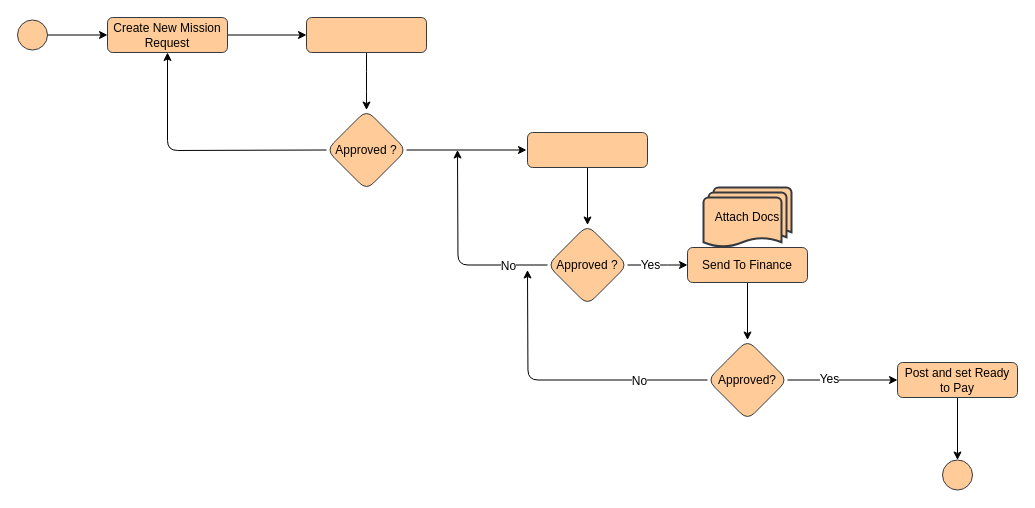
Image size: 1035x508. Some labels were removed from this diagram. The centre of each missing label's shape, as x and y in pixels:
End: the point at 957,474
Send to Manager To Approve: the point at 366,34
Send to Sector Manager: the point at 587,150
Start: the point at 32,34
